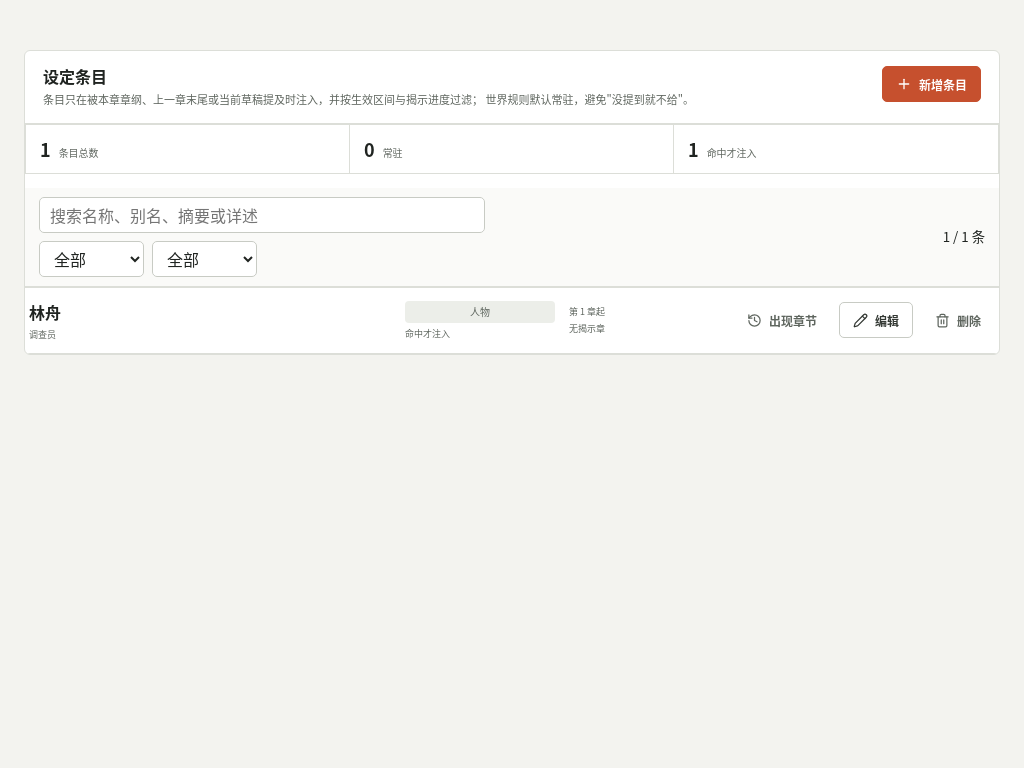
it: story entries workspace › audits appearance chapters across outline and content
Click the button "出现章节" at (782,320), box x1=733 y1=302 x2=831 y2=338
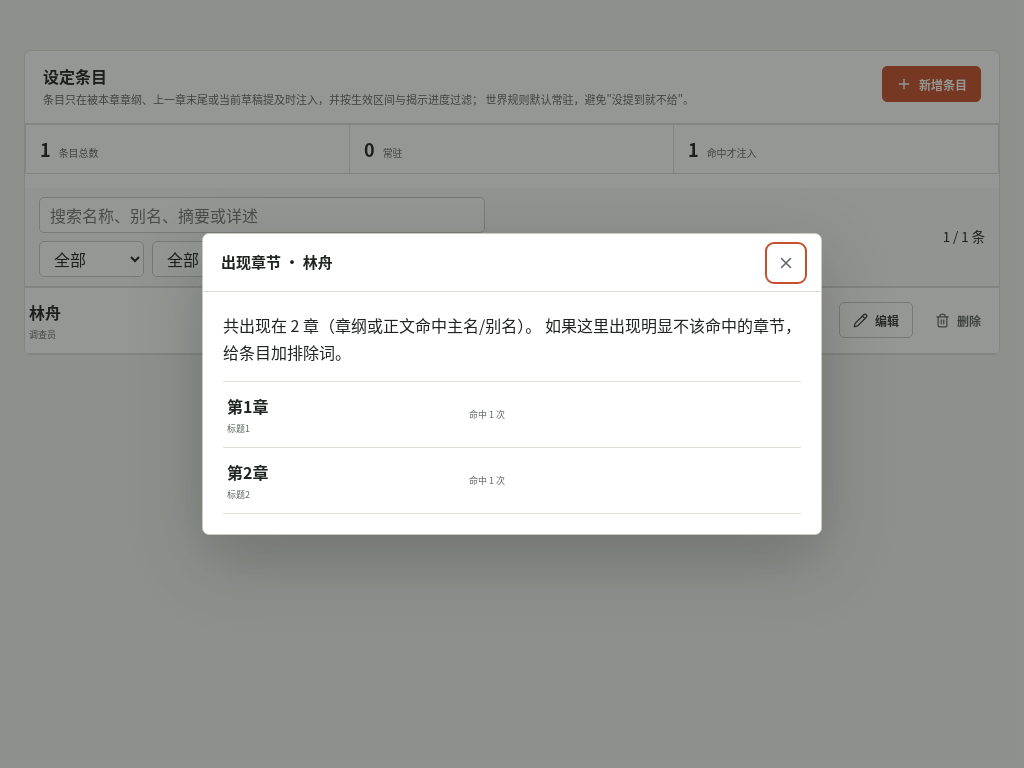
Check: the text "共出现在 2 章（章纲或正文命中主名/别名）。 如果这里出现明显不该命中的章节，给条目加排除词。" is shown, box x1=223 y1=312 x2=801 y2=365
Check: the text "第1章" is shown, box x1=227 y1=394 x2=268 y2=418
Check: the text "第2章" is shown, box x1=227 y1=460 x2=268 y2=484
